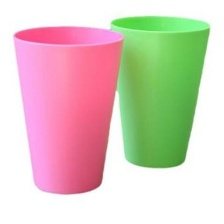glass: (8, 20, 127, 202), (105, 11, 214, 173)
